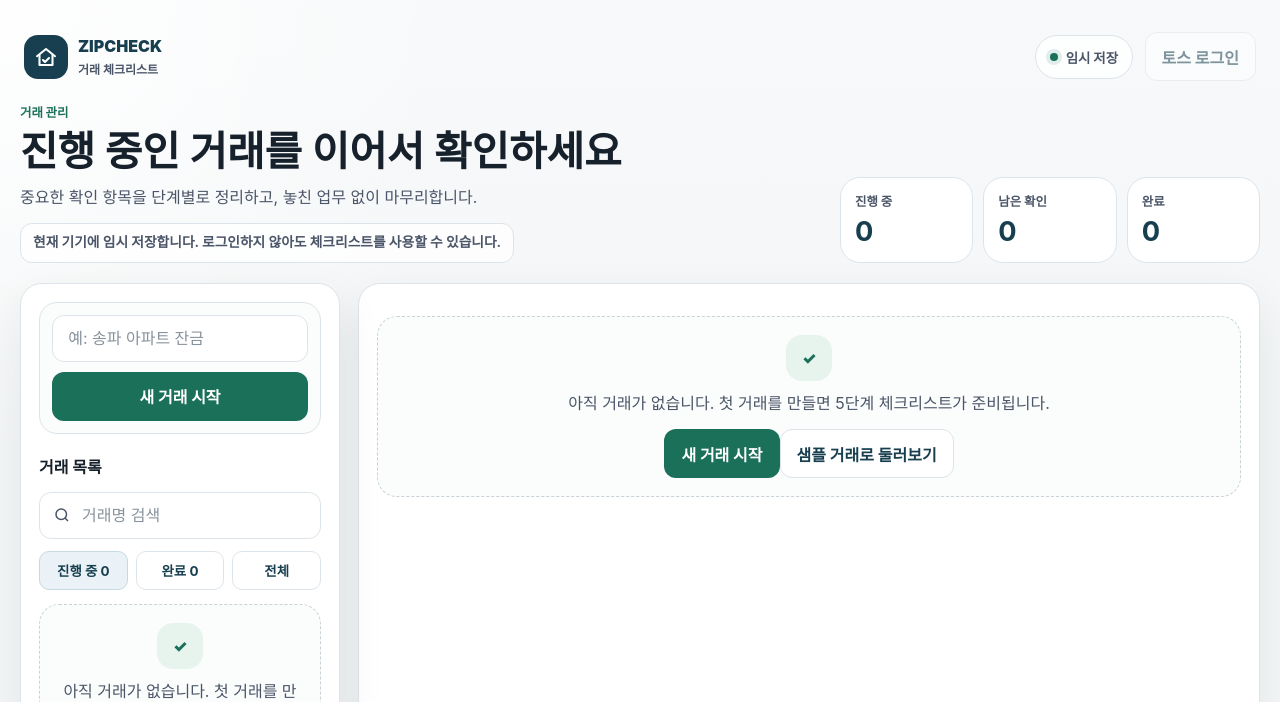
App broker checklist › opens a guide sheet with steps, warning, done criteria, and source chips
Type "상세 가이드 검증" into the field named "거래명" at (180, 338), box [52,315,308,362]
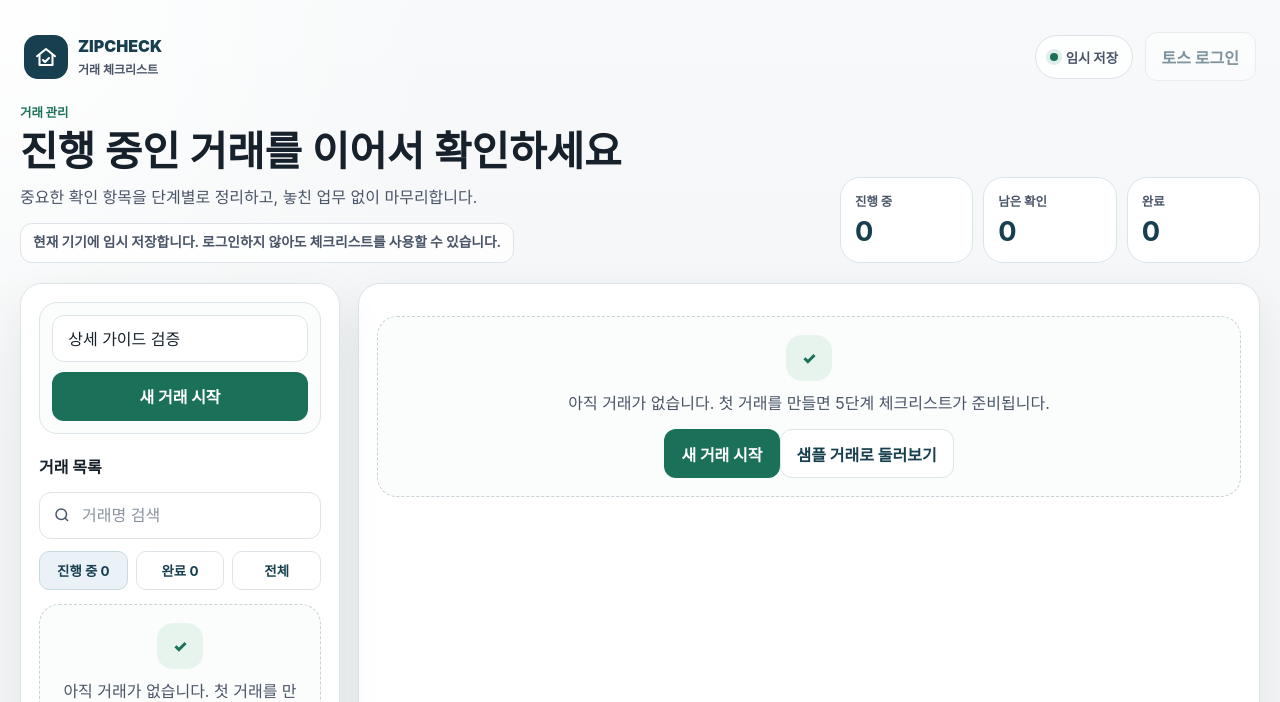
Click the 1st button "새 거래 시작" at (180, 396), box [52,372,308,421]
(page scrolled)
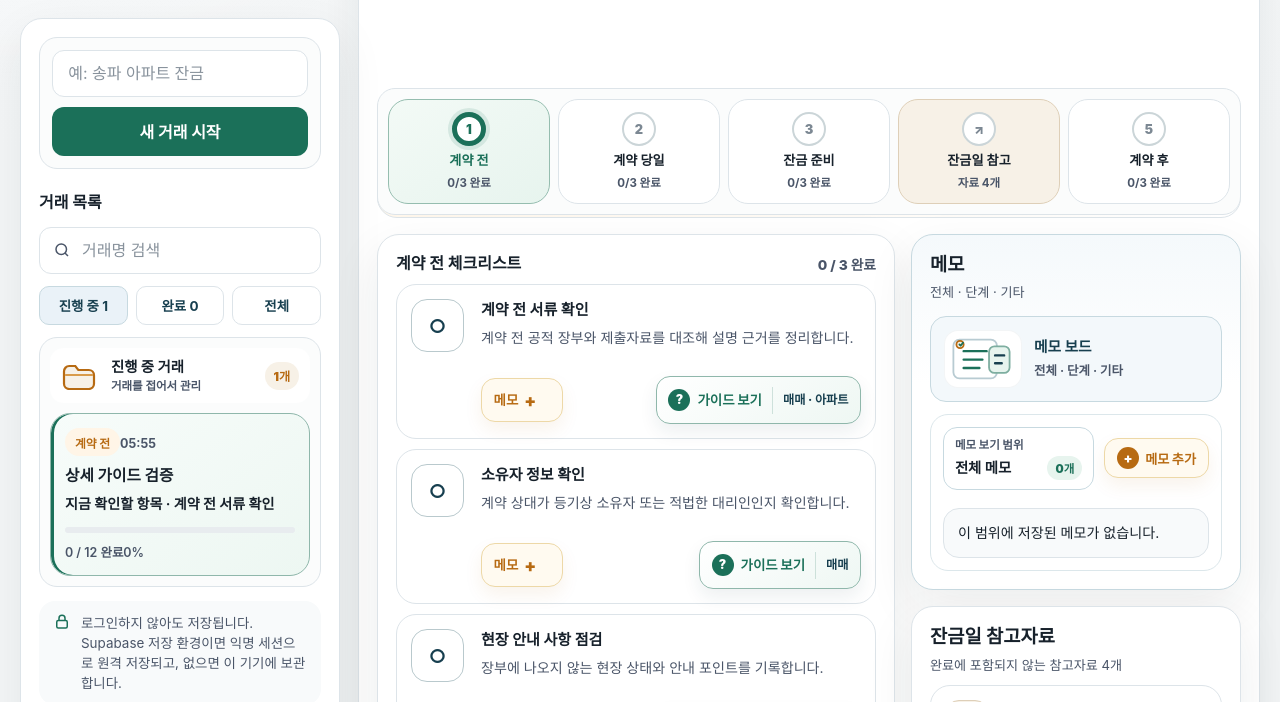
Click the button with aria-label "계약 전 서류 확인 가이드 보기" at (758, 400), box [656,376,861,424]
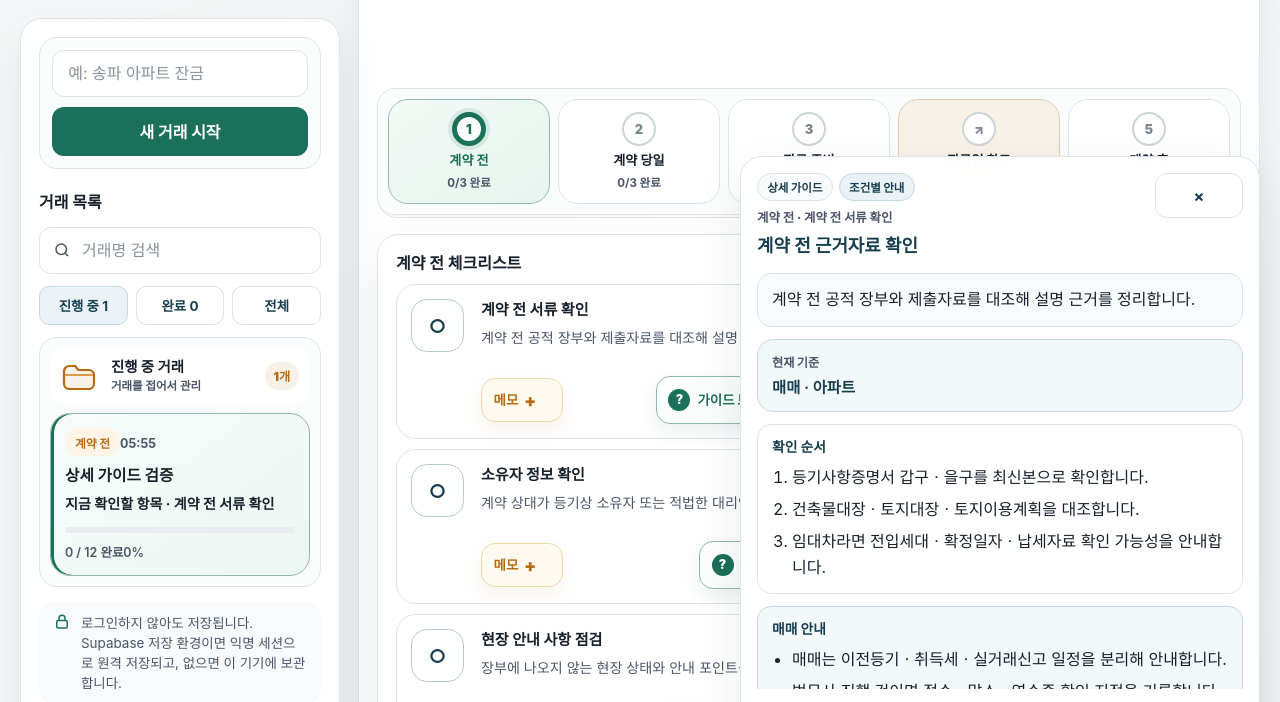
Result: the heading "확인 순서" is shown at [772,439,826,455]
Result: the list item "등기사항증명서 갑구ㆍ을구를 최신본으로 확인합니다." is shown at [792,467,1149,487]
